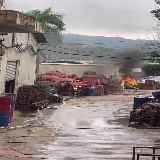fire: (122, 76, 138, 85)
